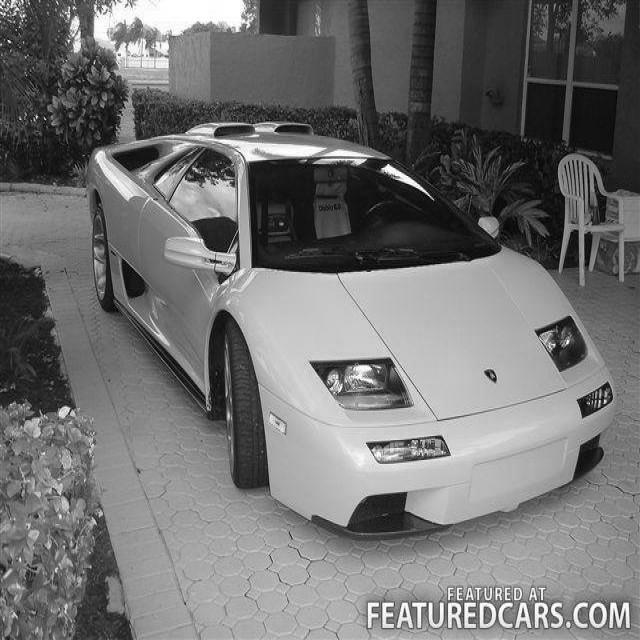Sedan: (87, 118, 618, 540)
